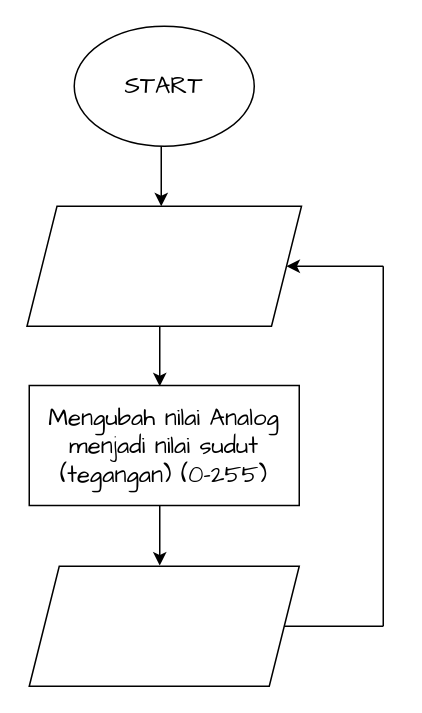
Some shapes in this 422 by 713 pixel diagram are drawn without their labels. The shapes that lost their labels are listed below. From the top down, each one's box as (x1, y1, x2, y2) in pixels, then its label:
(26, 205, 302, 326): Pilih nilai terhadap Analog Potensio (0 - 10240)
(28, 565, 299, 686): Menampilkan nilai sudut kepada servo
